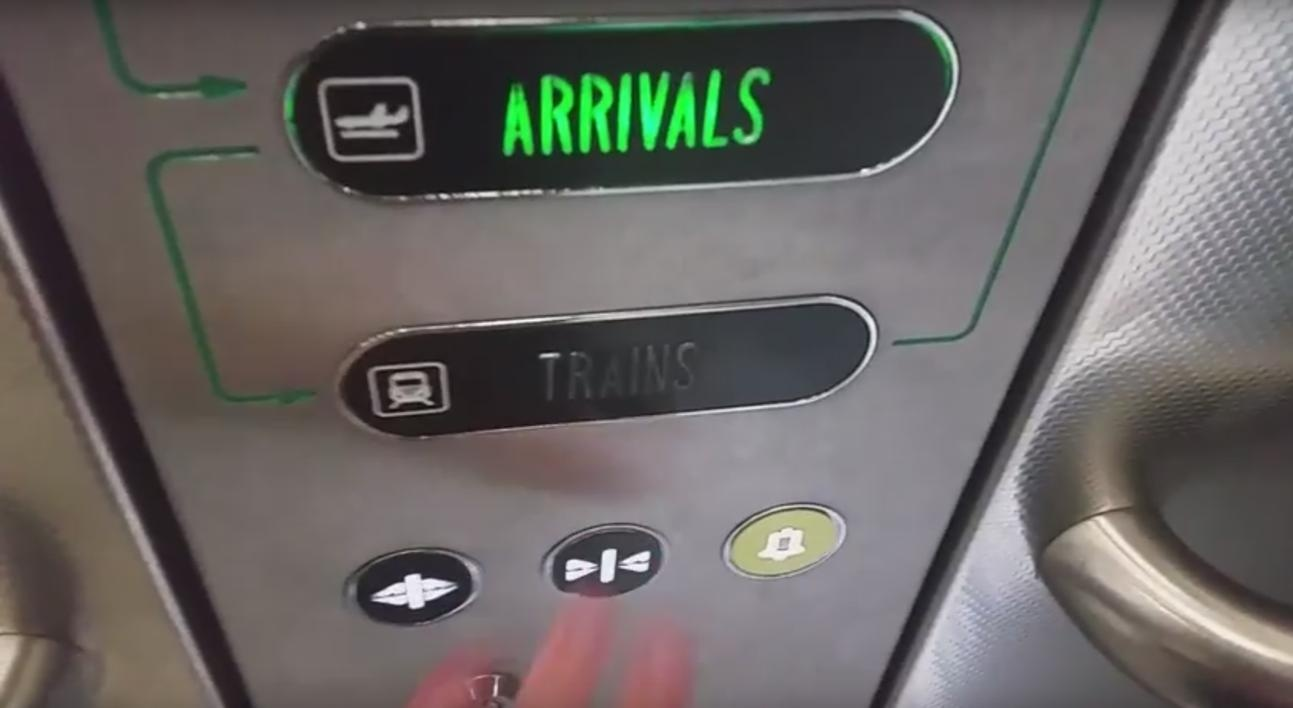alarm: (719, 501, 852, 582)
close: (540, 522, 672, 603)
open: (343, 543, 485, 632)
